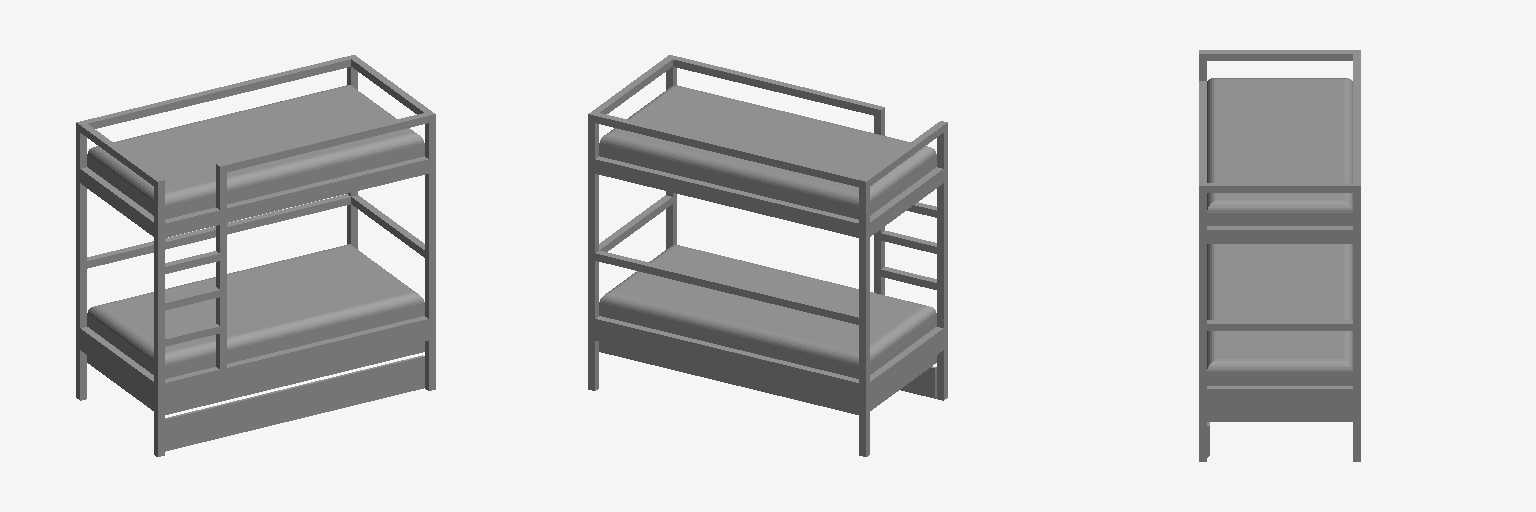
Rendered from BUNK_BED1.obj.
3 views of the same model, side by side, from view 1: azimuth 30°, elevation 25°; view 2: azimuth 150°, elevation 25°; view 3: azimuth 270°, elevation 25° (orthographic).
Parts seen in each view (by area): view 1: BUNK_BED-COM-Component_23-3239-Buff, BUNK_BED-COM-Component_19-3238-Dark_Olive; view 2: BUNK_BED-COM-Component_19-3238-Dark_Olive, BUNK_BED-COM-Component_23-3239-Buff; view 3: BUNK_BED-COM-Component_19-3238-Dark_Olive, BUNK_BED-COM-Component_23-3239-Buff.
Boxes of the visible parts, <box> form: BUNK_BED-COM-Component_23-3239-Buff: <box>76,55,435,456</box>; BUNK_BED-COM-Component_19-3238-Dark_Olive: <box>87,85,424,378</box>; BUNK_BED-COM-Component_19-3238-Dark_Olive: <box>599,85,936,378</box>; BUNK_BED-COM-Component_23-3239-Buff: <box>588,55,947,456</box>; BUNK_BED-COM-Component_19-3238-Dark_Olive: <box>1207,78,1352,385</box>; BUNK_BED-COM-Component_23-3239-Buff: <box>1199,50,1360,461</box>.
Size of the model in its own units: 2.01 by 1.9 by 1.02.